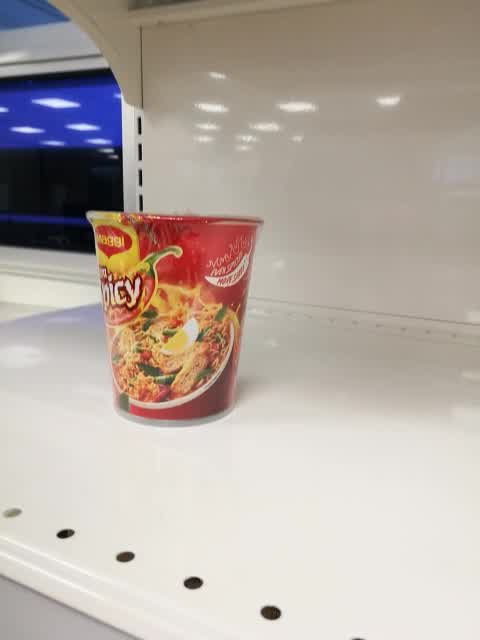maggi: (84, 207, 266, 430)
